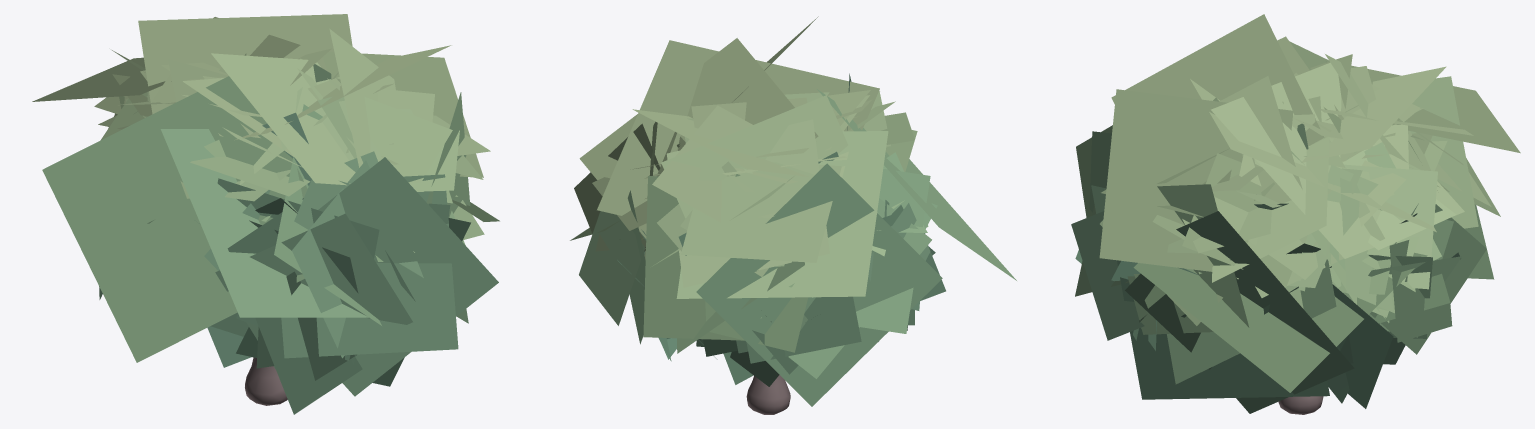
The model's file is oak_v0.glb.
3 views of the same model, side by side, from view 1: azimuth 30°, elevation 25°; view 2: azimuth 150°, elevation 25°; view 3: azimuth 270°, elevation 25° (orthographic). The views are drawn at different scales.
Visible parts, largest first — view 1: far, near; view 2: far, near; view 3: far, near.
Boxes of the visible parts, x1,y1,x2,y2 form: far: (32, 14, 499, 414); near: (98, 48, 490, 405); far: (570, 16, 1016, 406); near: (574, 90, 945, 414); far: (1075, 14, 1520, 413); near: (1071, 54, 1486, 414).
Bounding box in the file's own units: 16.79 × 14.1 × 16.81.
